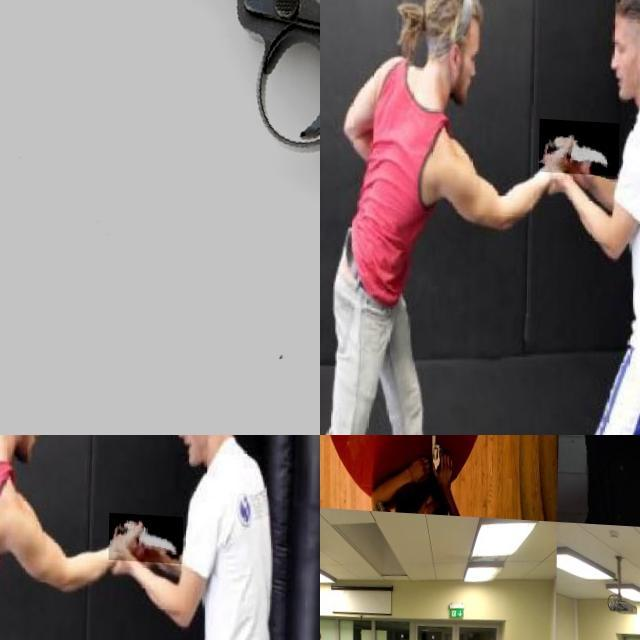-: (540, 114, 621, 171), (110, 508, 184, 558)
gun-knife-thesis - v11 Yolov5 augmented: (0, 0, 320, 435), (426, 435, 455, 481), (611, 435, 640, 475), (418, 435, 455, 462)
